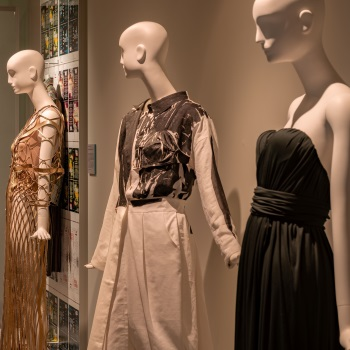person-like: (84, 17, 241, 350), (233, 1, 348, 350), (1, 48, 68, 350)
